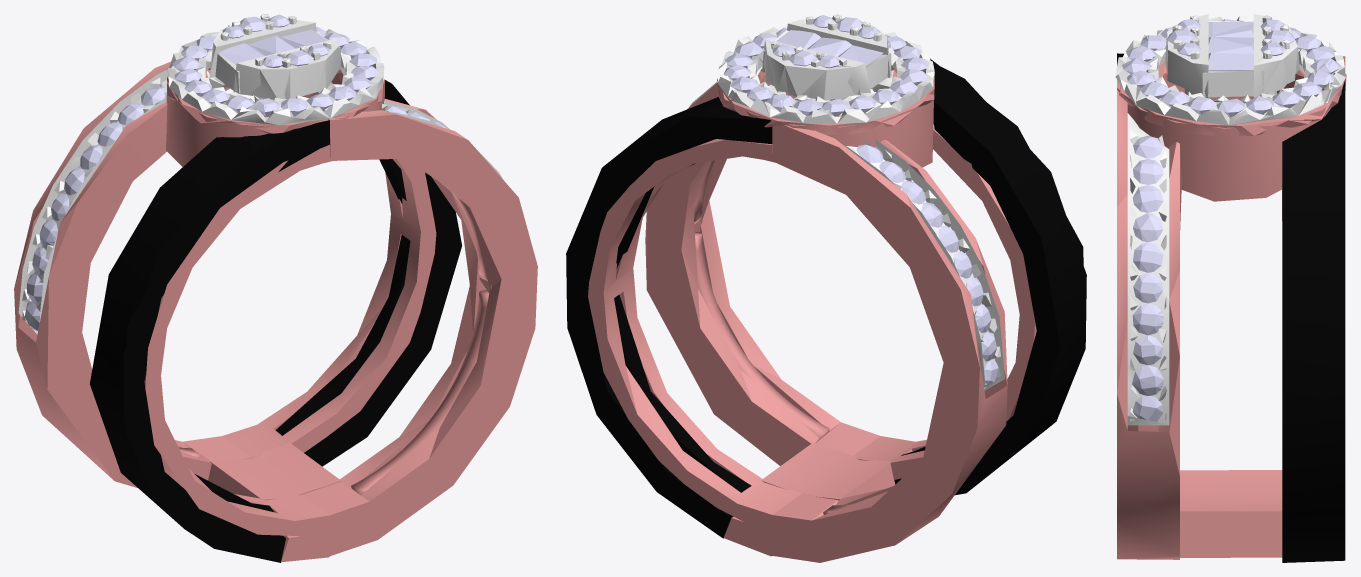
File: DLR-D000677791.glb
3 views of the same model, side by side, from view 1: azimuth 30°, elevation 25°; view 2: azimuth 150°, elevation 25°; view 3: azimuth 270°, elevation 25° (orthographic). The views are drawn at different scales.
Visible parts, largest first — view 1: highPolyMesh, lowPolyMesh; view 2: highPolyMesh, lowPolyMesh; view 3: highPolyMesh, lowPolyMesh.
Part boxes in pixels (<box>): highPolyMesh: <box>14,14,537,562</box>; lowPolyMesh: <box>22,14,461,562</box>; highPolyMesh: <box>587,14,1083,562</box>; lowPolyMesh: <box>566,15,1086,538</box>; highPolyMesh: <box>1115,14,1346,562</box>; lowPolyMesh: <box>1117,15,1346,561</box>.
Size of the model in its own units: 0.0216 by 0.0235 by 0.00973.
